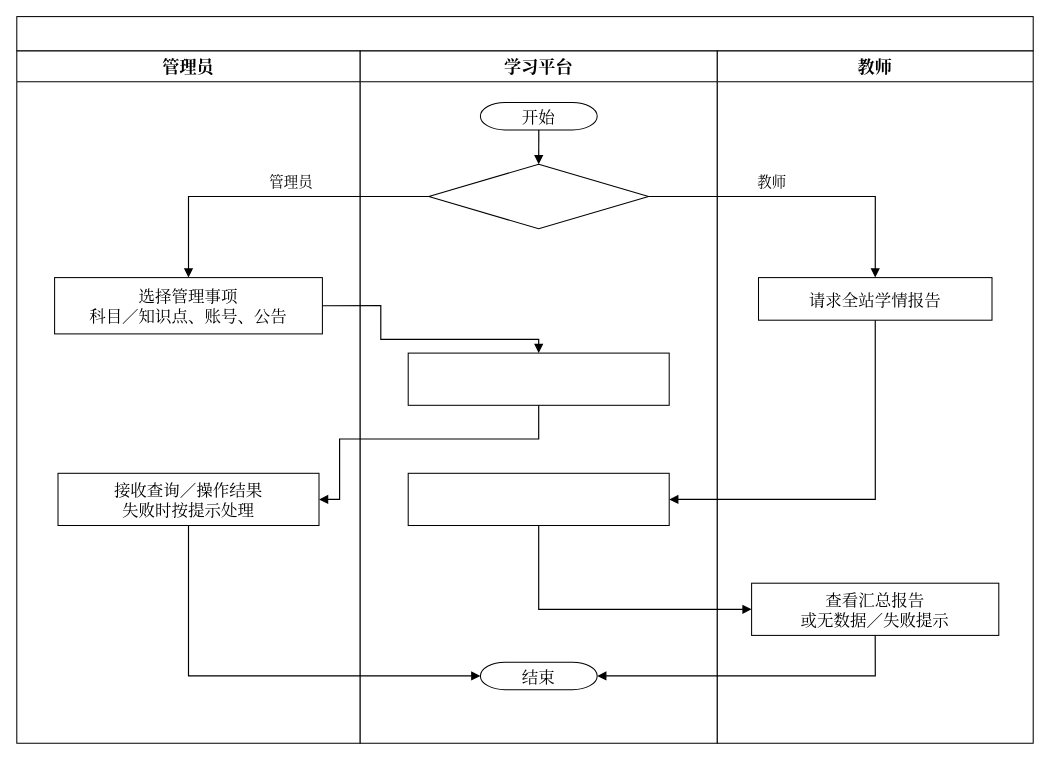
The diagram is 1050 pixels wide and 760 high, and some of its shapes have lost their labels. The shapes that lost their labels are listed below. From the top down, each one's centre as x and y in pixels, then its label:
At (x=524, y=33): "图3.3 管理与学情查看业务流程图".
At (x=538, y=196): "当前登录角色？".
At (x=538, y=378): "按权限处理管理请求 查询或校验、保存变更".
At (x=538, y=499): "按权限读取当前记录 聚合全站学情数据".
